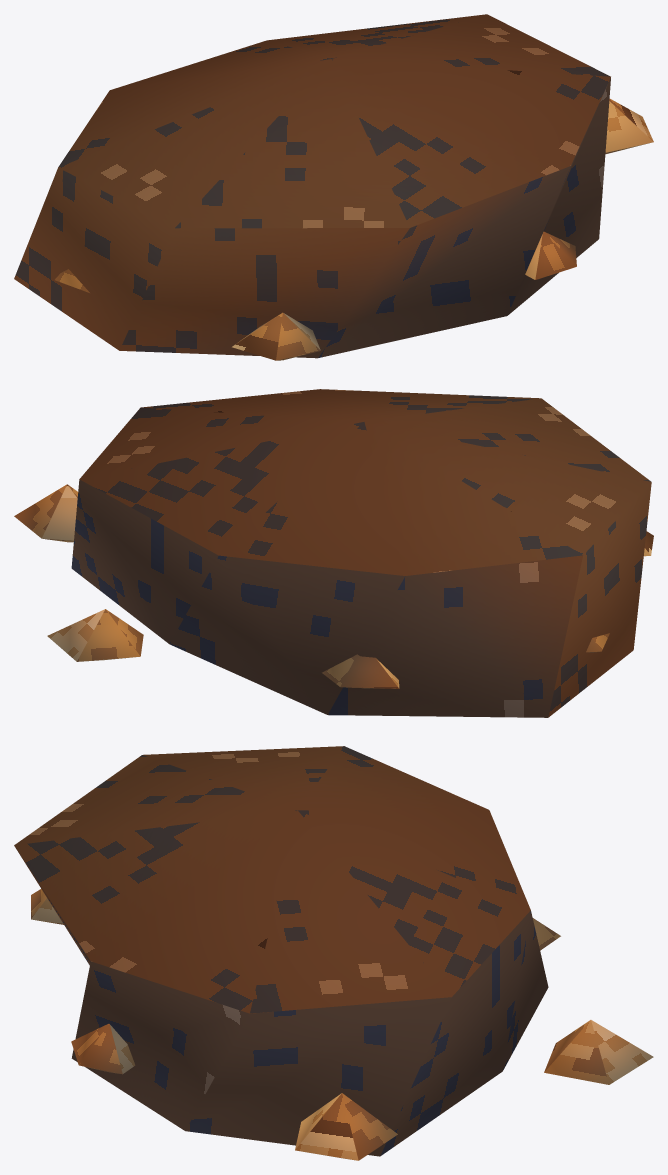
Rendered from wmine.ore_pile.glb.
The picture shows the model from 3 angles, top to bottom: view 1: azimuth 30°, elevation 25°; view 2: azimuth 150°, elevation 25°; view 3: azimuth 270°, elevation 25°; orthographic projection. The views are drawn at different scales.
Visible parts, largest first — view 1: kit_mound, kit_lumps; view 2: kit_mound, kit_lumps; view 3: kit_mound, kit_lumps.
Part boxes in pixels (left/top/right/bottom): kit_mound: left=14, top=14, right=610, bottom=358; kit_lumps: left=55, top=99, right=653, bottom=360; kit_mound: left=71, top=389, right=651, bottom=717; kit_lumps: left=14, top=484, right=653, bottom=688; kit_mound: left=14, top=746, right=548, bottom=1156; kit_lumps: left=31, top=889, right=653, bottom=1160.
Size of the model in its own units: 3.21 by 1.04 by 2.75.
Materials: 2 (2 with a texture image).
